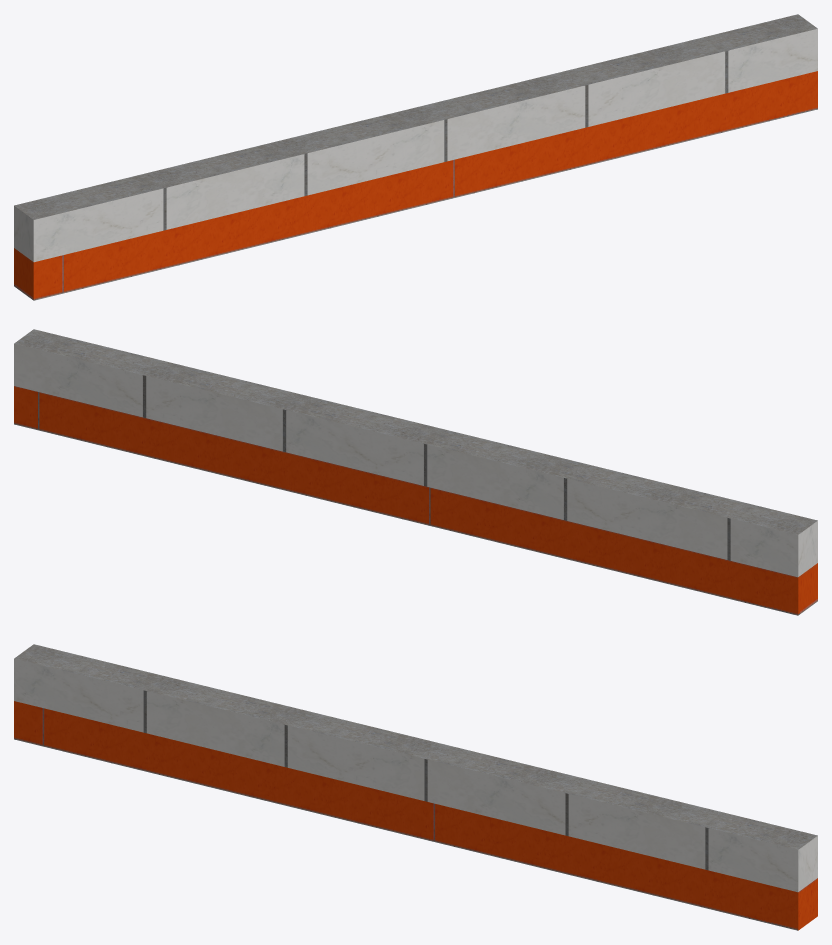
The model's file is WallUpperPart_1.fbx.
The picture shows the model from 3 angles, top to bottom: view 1: azimuth 30°, elevation 25°; view 2: azimuth 150°, elevation 25°; view 3: azimuth 330°, elevation 25°; orthographic projection.
Parts seen in each view (by area): view 1: WallUpperPart_1; view 2: WallUpperPart_1; view 3: WallUpperPart_1.
Boxes of the visible parts, x1,y1,x2,y2 form: WallUpperPart_1: (14, 14, 817, 300); WallUpperPart_1: (14, 329, 817, 615); WallUpperPart_1: (14, 644, 817, 930).
Bounding box in the file's own units: 4 × 0.3937 × 0.175.
